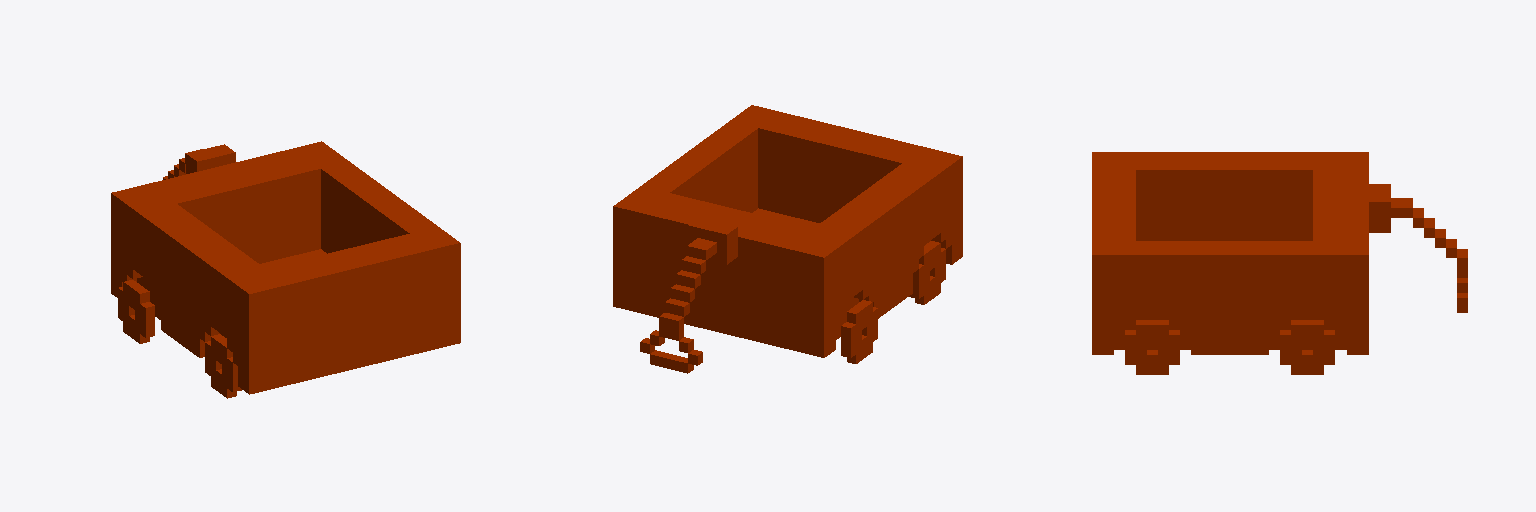
3 renders of one model, left to right at view 1: azimuth 30°, elevation 25°; view 2: azimuth 150°, elevation 25°; view 3: azimuth 270°, elevation 25°, orthographic.
Size of the model in its own units: 23 by 13 by 34.
Materials: 1 (1 with a texture image).